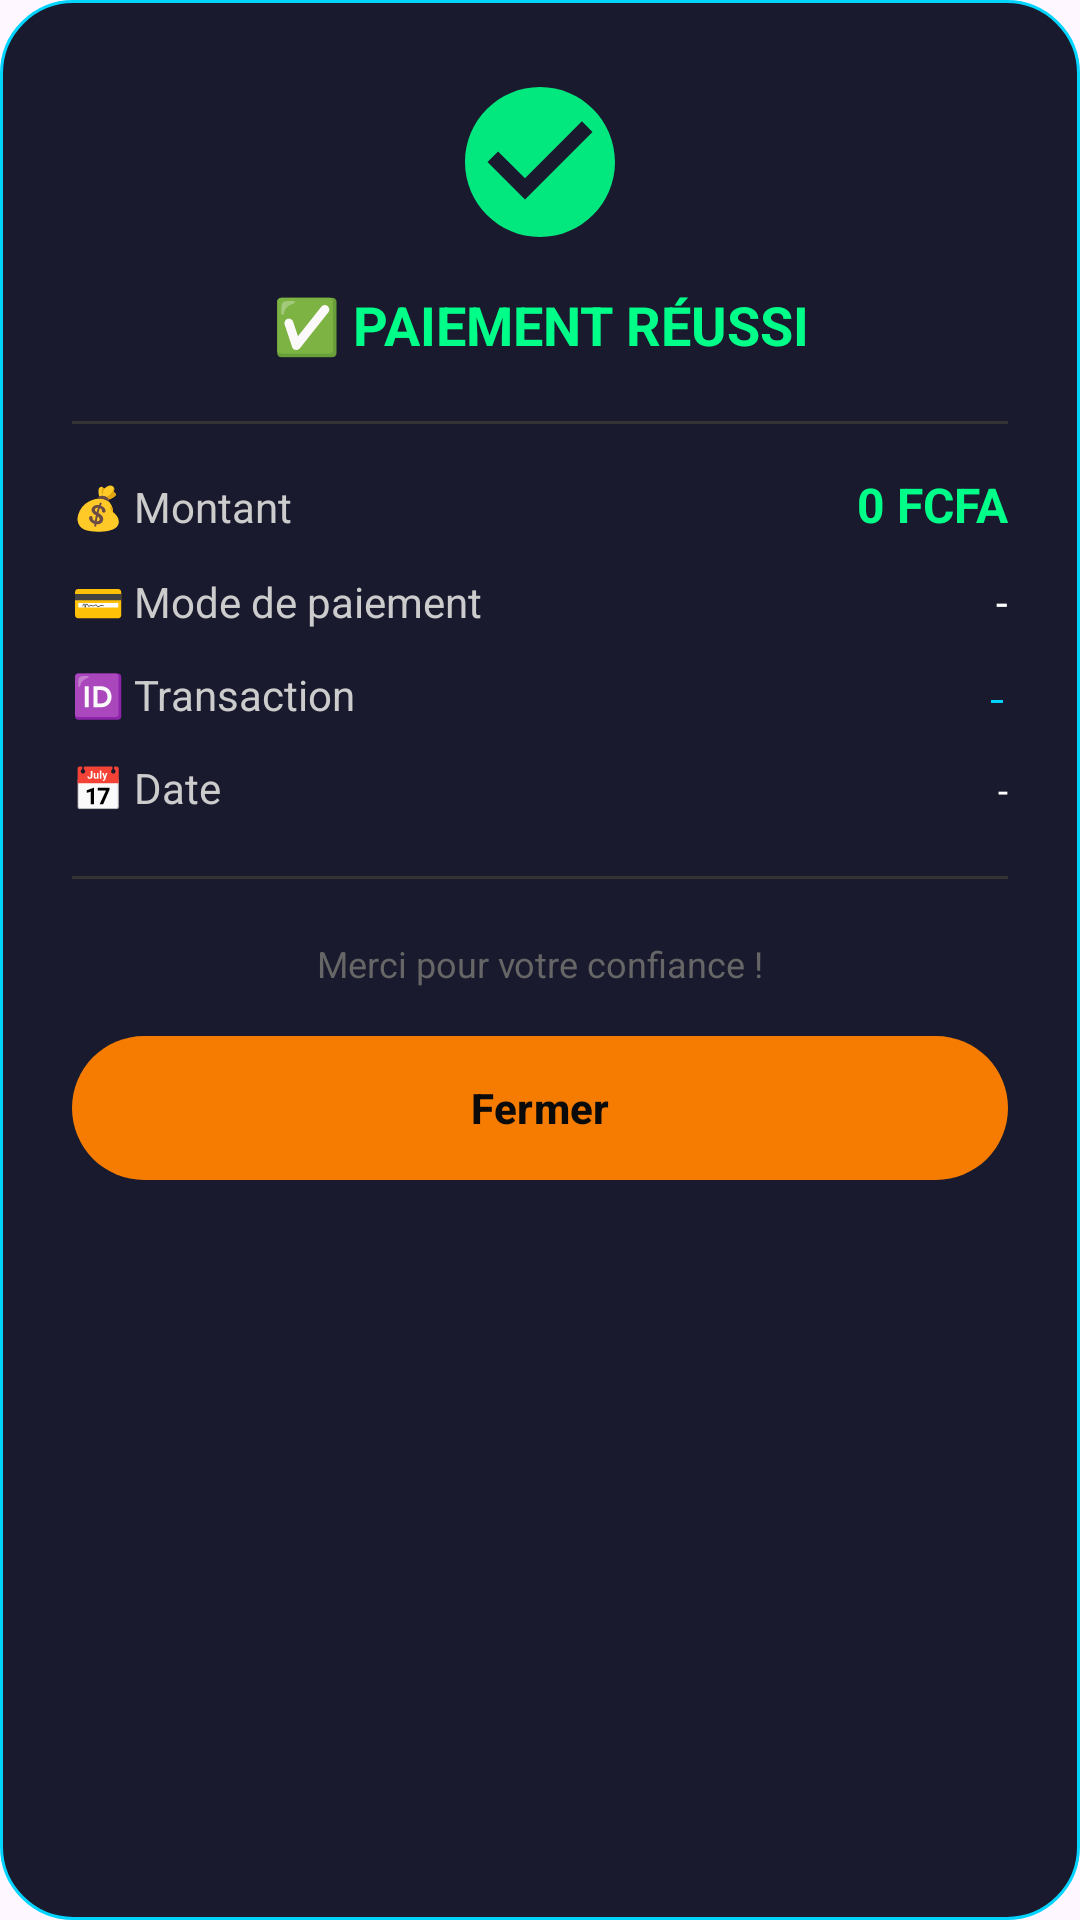

Icons on this 1080 × 1920 Android screen, each with its box as (x1, y1, x2, y2):
check circle: (465, 87, 615, 237)
